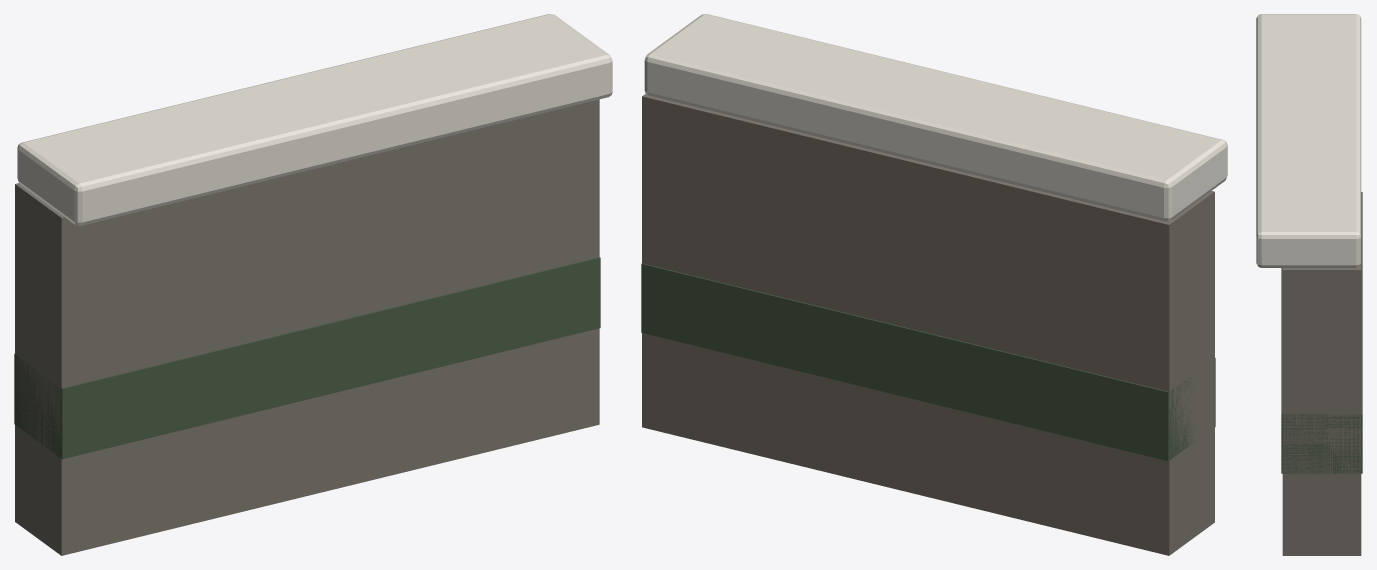
Rendered from Coping.glb.
3 views of the same model, side by side, from view 1: azimuth 30°, elevation 25°; view 2: azimuth 150°, elevation 25°; view 3: azimuth 270°, elevation 25° (orthographic). The views are drawn at different scales.
Visible parts, largest first — view 1: Coping; view 2: Coping; view 3: Coping.
Part boxes in pixels (box(x1,y1,x2,y2)): Coping: box(14, 14, 612, 555); Coping: box(641, 14, 1227, 555); Coping: box(1256, 14, 1362, 555).
Bounding box in the file's own units: 2 × 1.35 × 0.405.
